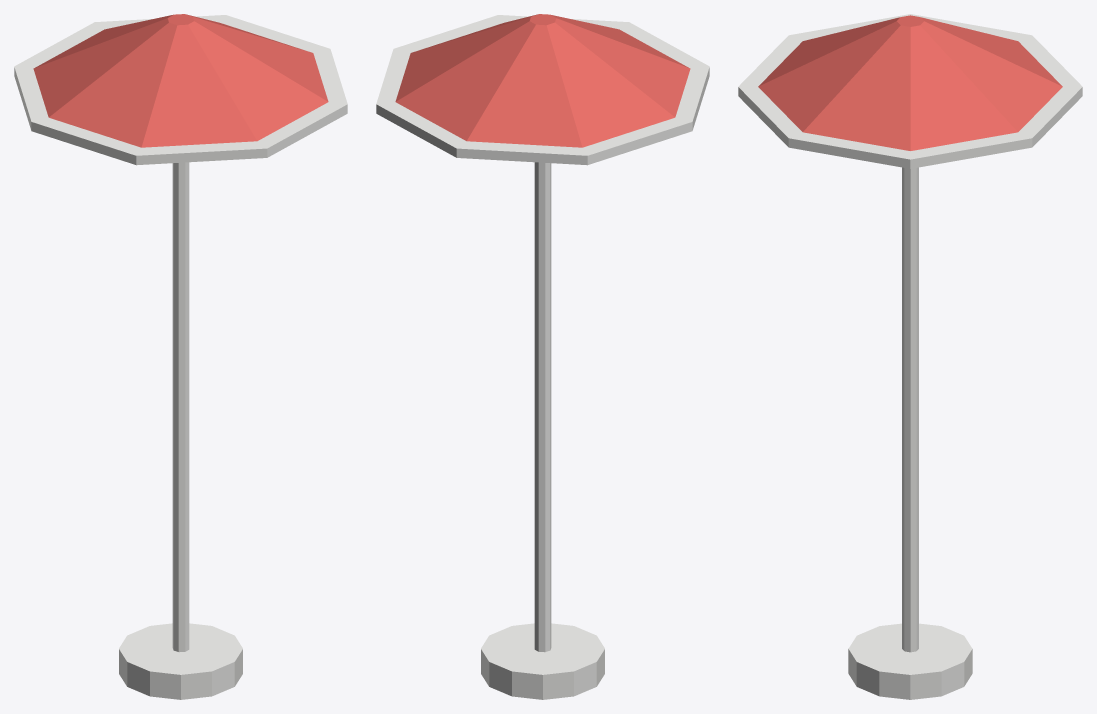
File: beach_umbrella.glb
The picture shows the model from 3 angles, left to right: view 1: azimuth 30°, elevation 25°; view 2: azimuth 150°, elevation 25°; view 3: azimuth 270°, elevation 25°; orthographic projection.
Visible parts, largest first — view 1: beach_umbrella; view 2: beach_umbrella; view 3: beach_umbrella.
Boxes of the visible parts, x1=… form: beach_umbrella: x1=14, y1=14, x2=347, y2=699; beach_umbrella: x1=376, y1=14, x2=709, y2=699; beach_umbrella: x1=738, y1=14, x2=1082, y2=699.
Size of the model in its own units: 1 by 2.09 by 1.
